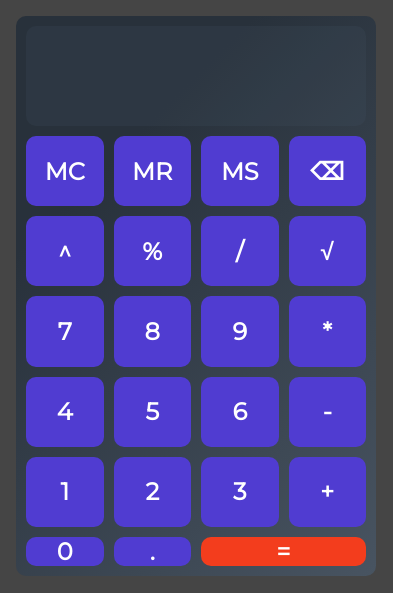
Scenario: Does page render correctly › Testing for PEMDAS calculation
What coordinates should you click on to do the following:
click the button "4"
I would click on:
 (65, 412)
Its box is x1=26 y1=377 x2=104 y2=447.
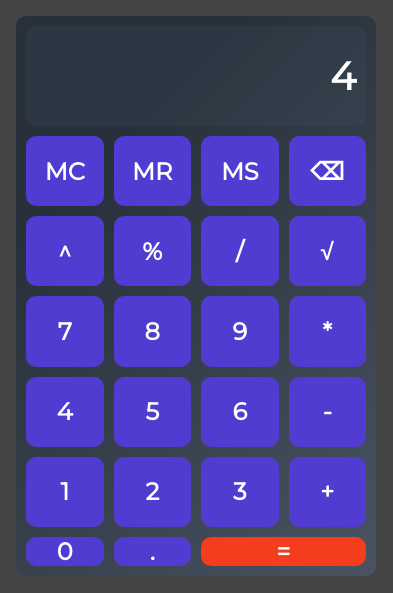
What coordinates should you click on to do the following:
click the button "+"
I would click on:
 (327, 492)
Its box is x1=288 y1=457 x2=366 y2=527.
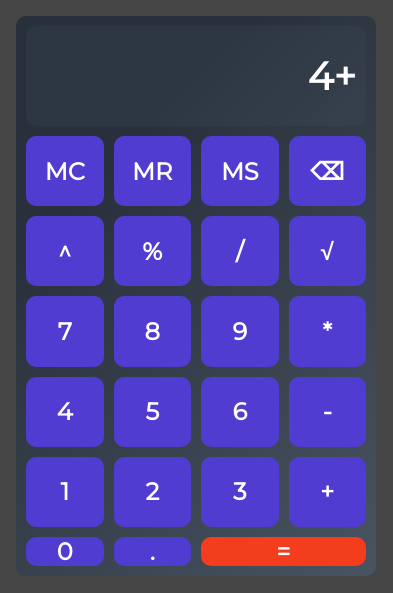
What coordinates should you click on to do the following:
click the button "5"
I would click on:
 (152, 412)
Its box is x1=114 y1=377 x2=191 y2=447.
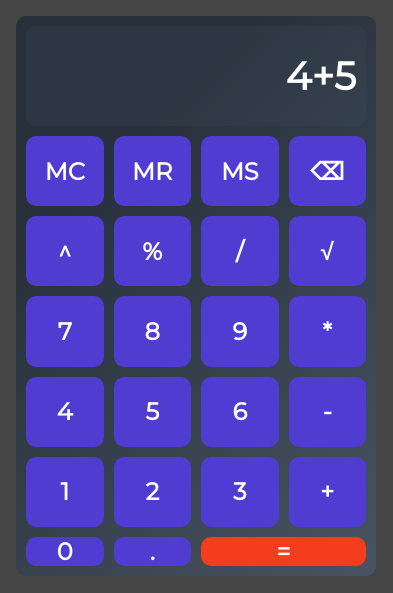
What coordinates should you click on to do the following:
click the button "*"
I would click on:
 (327, 332)
Its box is x1=288 y1=296 x2=366 y2=367.
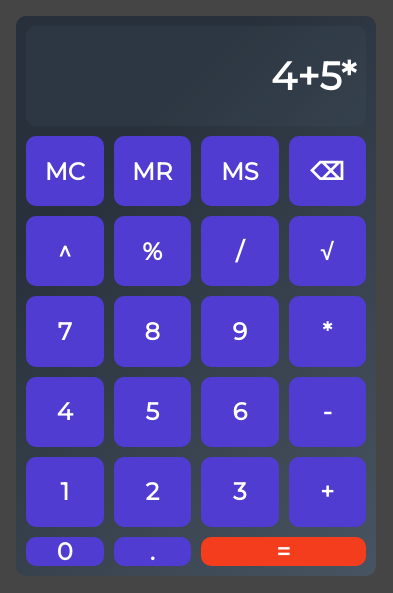
What coordinates should you click on to do the following:
click the button "2"
I would click on:
 (152, 492)
Its box is x1=114 y1=457 x2=191 y2=527.
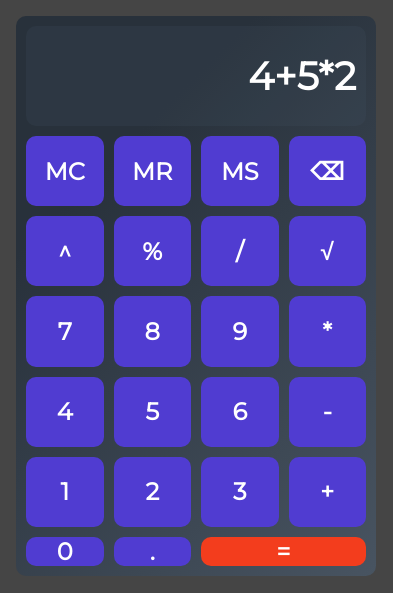
What coordinates should you click on to do the following:
click the button "="
I would click on:
 (284, 552)
Its box is x1=201 y1=537 x2=366 y2=566.
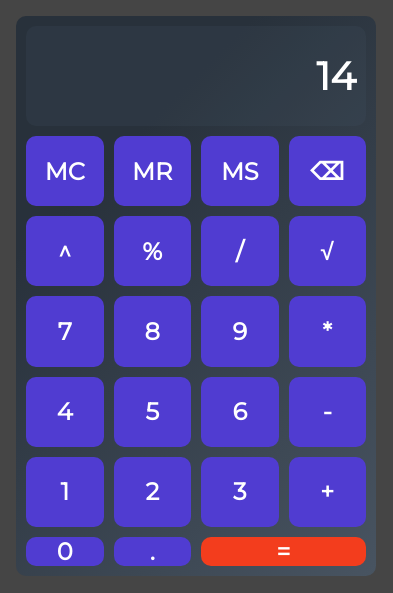
Result: the text with test id "screen-id" reads "14" at x1=316 y1=52 x2=356 y2=100
